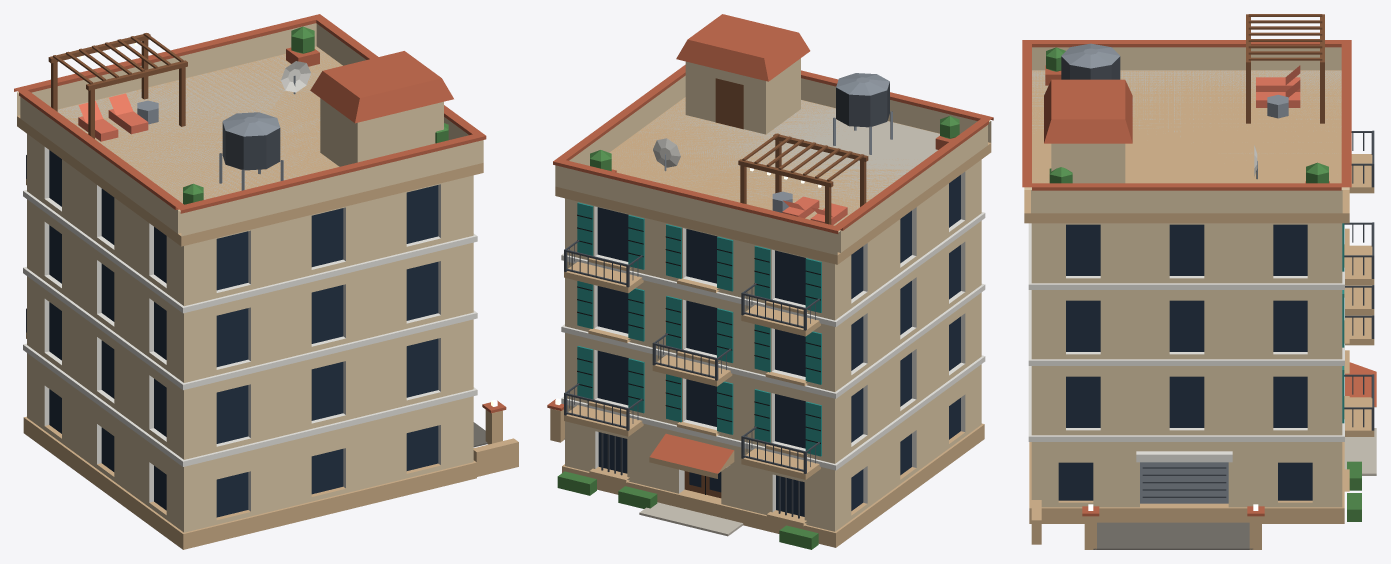
Rendered from safehouse.glb.
The picture shows the model from 3 angles, left to right: view 1: azimuth 30°, elevation 25°; view 2: azimuth 150°, elevation 25°; view 3: azimuth 270°, elevation 25°; orthographic projection. The views are drawn at different scales.
Parts seen in each view (by area): view 1: Body; view 2: Body; view 3: Body.
Boxes of the visible parts, <box> form: Body: <box>14,14,518,549</box>; Body: <box>547,14,993,549</box>; Body: <box>1022,14,1376,549</box>.
Size of what is drawn, in the model's own units: 16.48 by 17.6 by 14.38.
